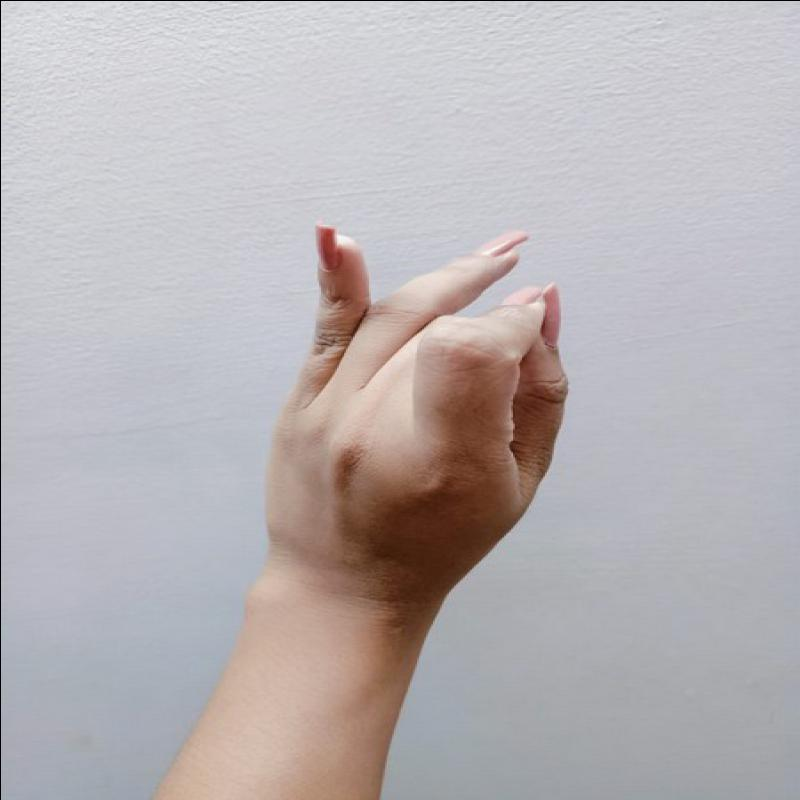Katakam: (243, 214, 594, 607)
